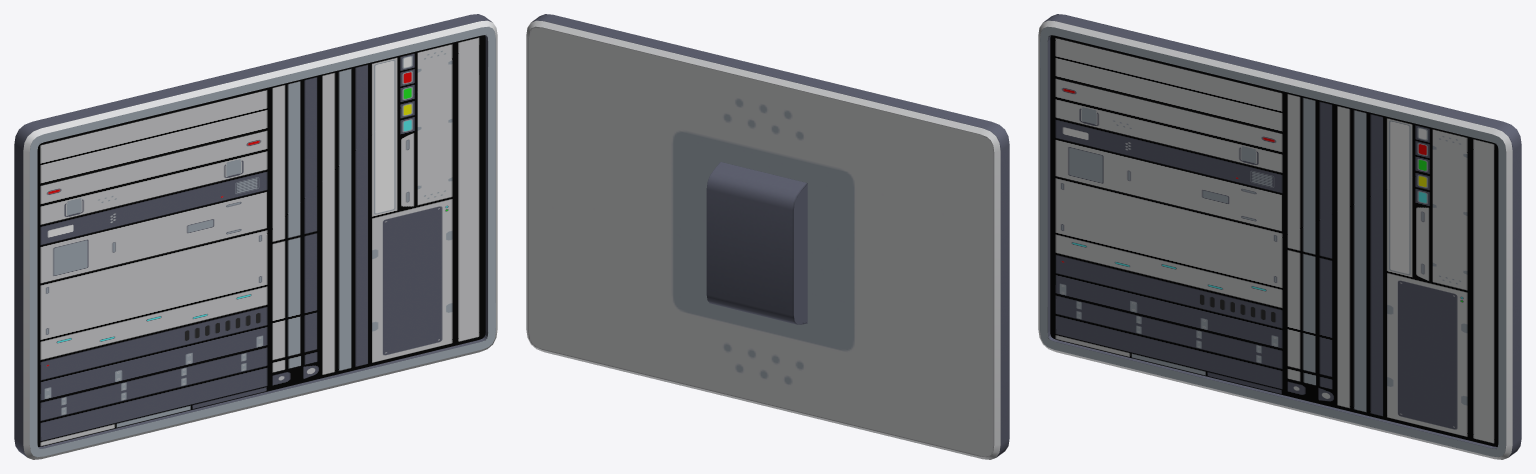
Rendered from TV_Big_Screen_01.FBX.
3 renders of one model, left to right at view 1: azimuth 30°, elevation 25°; view 2: azimuth 150°, elevation 25°; view 3: azimuth 330°, elevation 25°, orthographic.
Visible parts, largest first — view 1: Screen, TV_Big_Screen_01; view 2: TV_Big_Screen_01; view 3: Screen, TV_Big_Screen_01.
Part boxes in pixels (x1=…): Screen: x1=37, y1=35, x2=485, y2=446; TV_Big_Screen_01: x1=14, y1=14, x2=497, y2=459; TV_Big_Screen_01: x1=526, y1=14, x2=1009, y2=459; Screen: x1=1050, y1=35, x2=1498, y2=446; TV_Big_Screen_01: x1=1038, y1=14, x2=1521, y2=459.
Size of the model in its own units: 4.57 by 3.05 by 0.4603.
